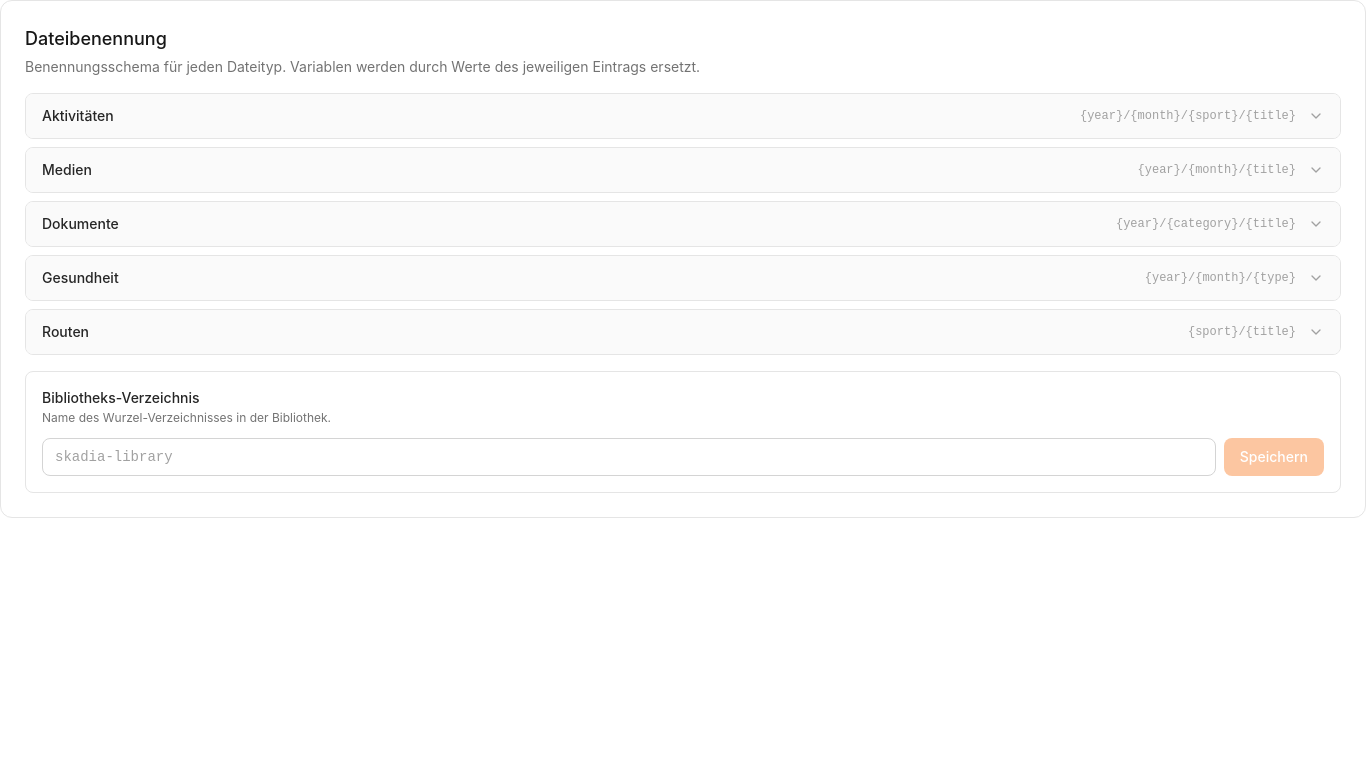
FileSchemaSettings — editable state from context › shows s3_backend hint when editable=false and reason=s3_backend
// Open a section via fireEvent
Click the button "Aktivitäten" at (78, 116), box [26,94,1340,138]
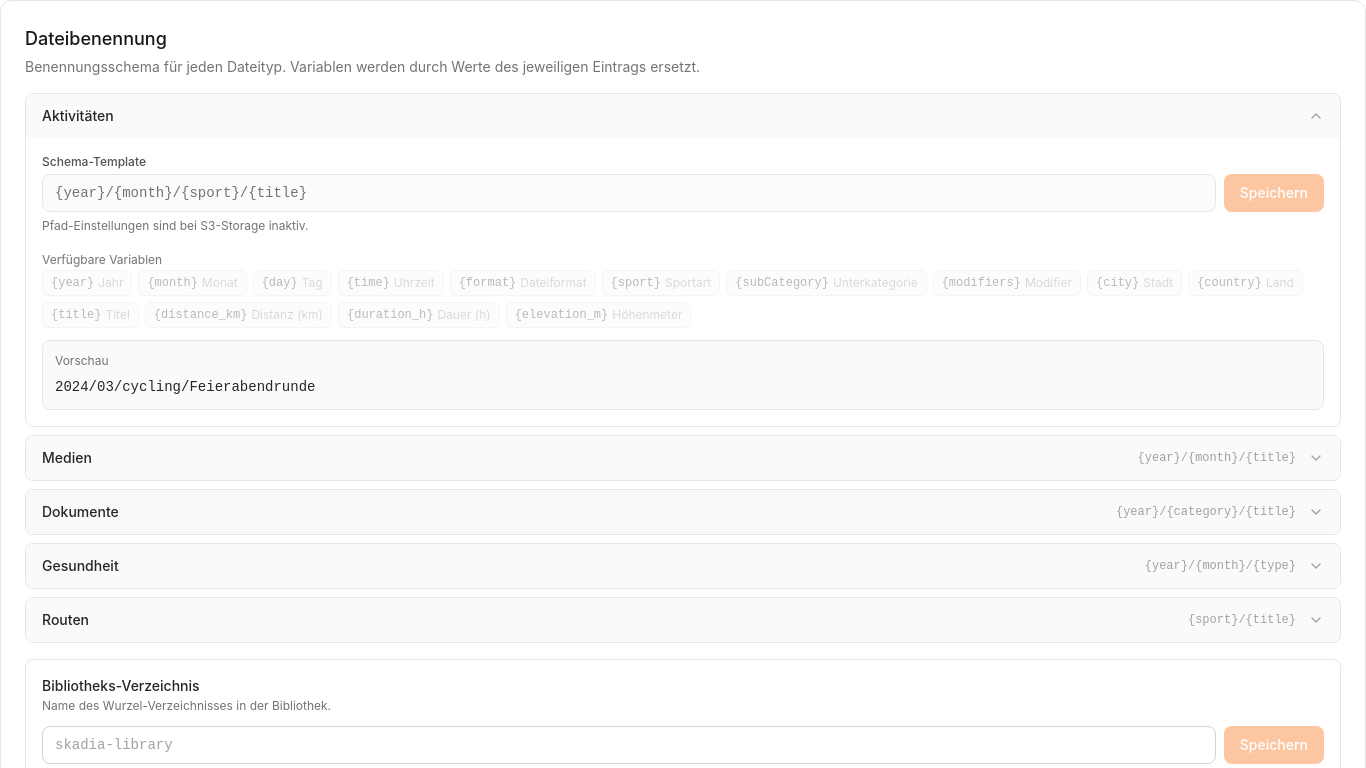
expect the text "Pfad-Einstellungen sind bei S3-Storage inaktiv." is shown: met, box [42,218,308,233]
